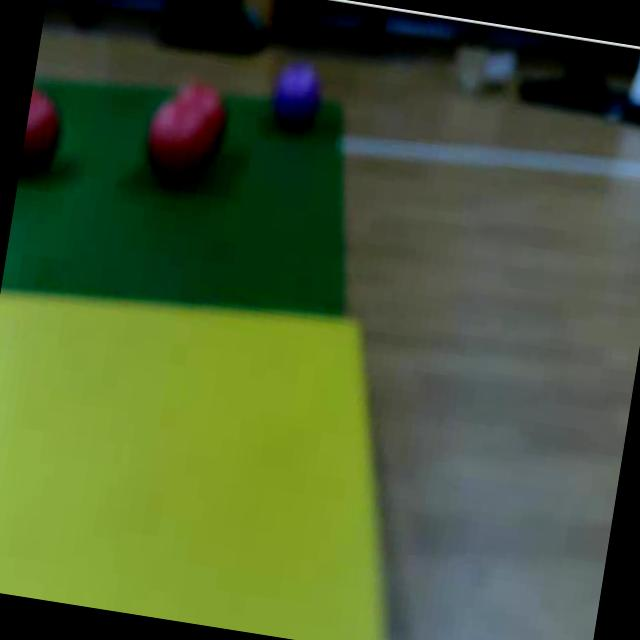purple_ball: (266, 59, 330, 140)
red_ball: (136, 74, 237, 200), (19, 90, 73, 184)
